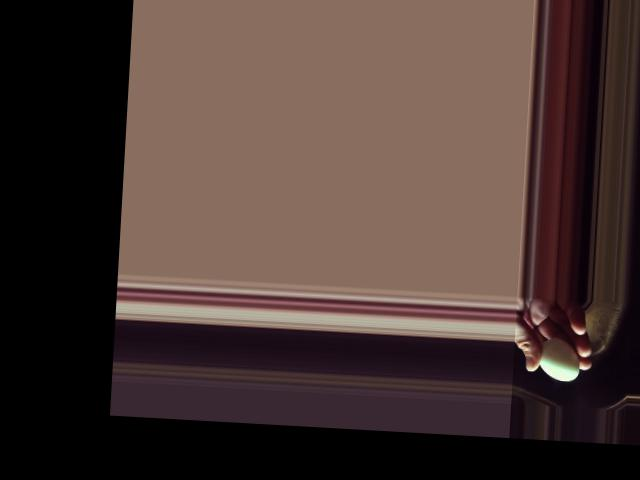egg: (538, 337, 580, 381)
